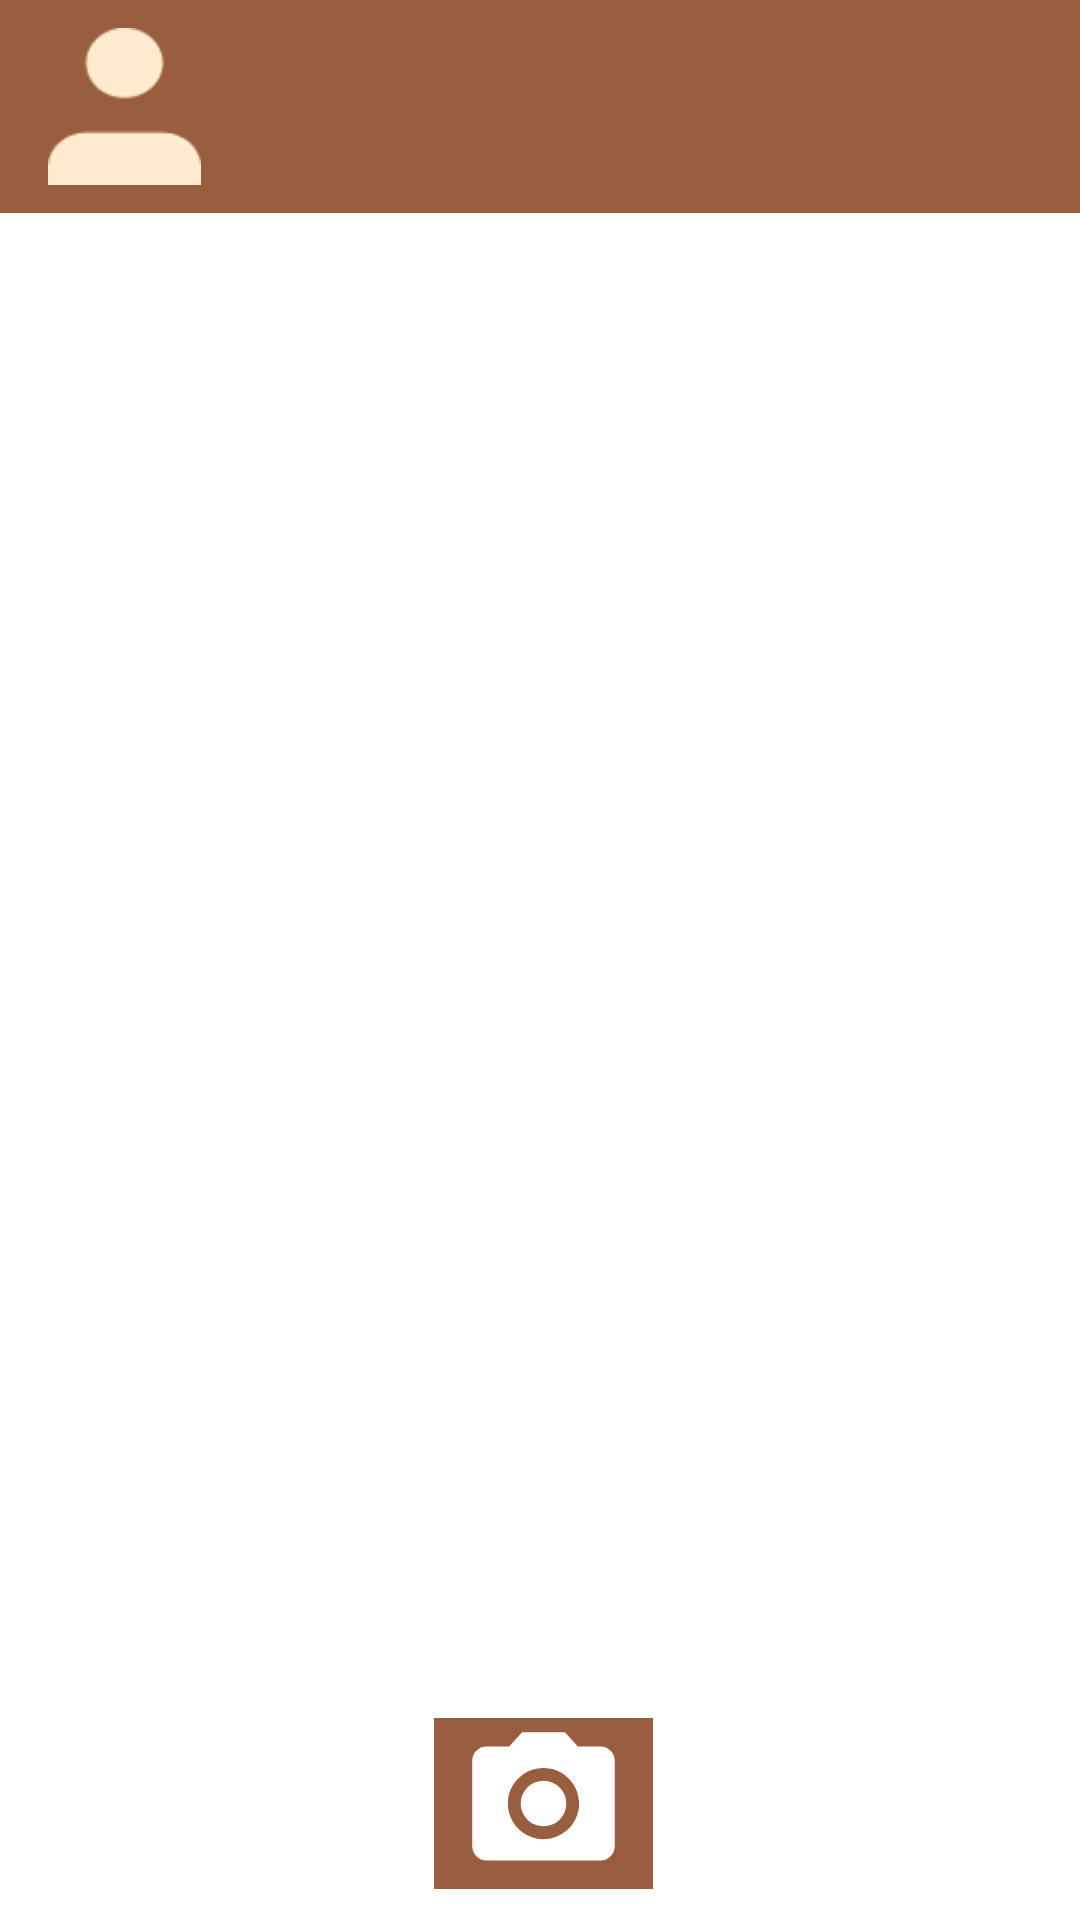

Screen size 1080 × 1920. Icon name, then its box in pixels as (x1, y1, x2, y2):
open camera: (434, 1718, 653, 1889)
Profile Icon: (48, 28, 201, 185)
